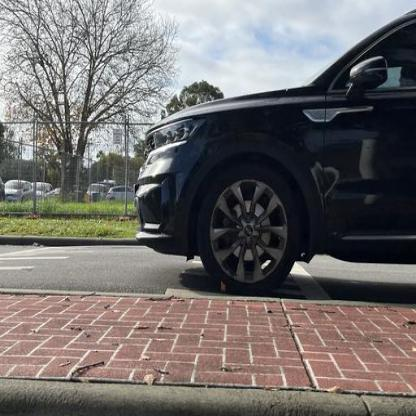Tire: (196, 164, 300, 295)
